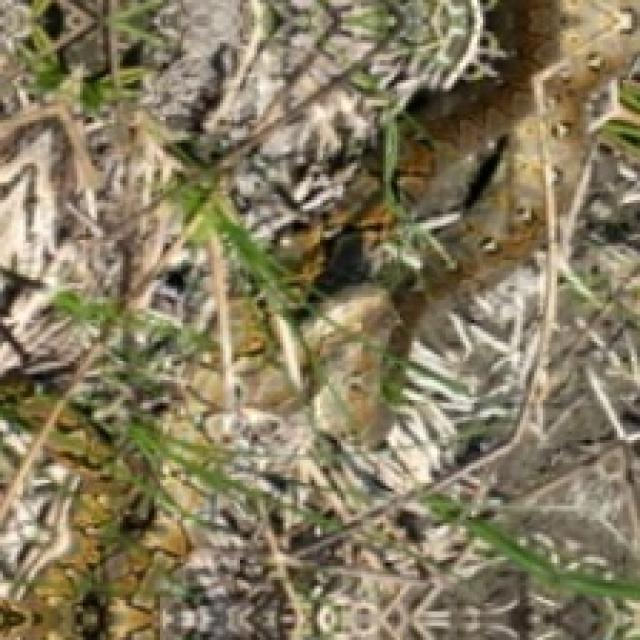reticulated python: (230, 0, 640, 448), (0, 450, 235, 639), (161, 320, 225, 439)
